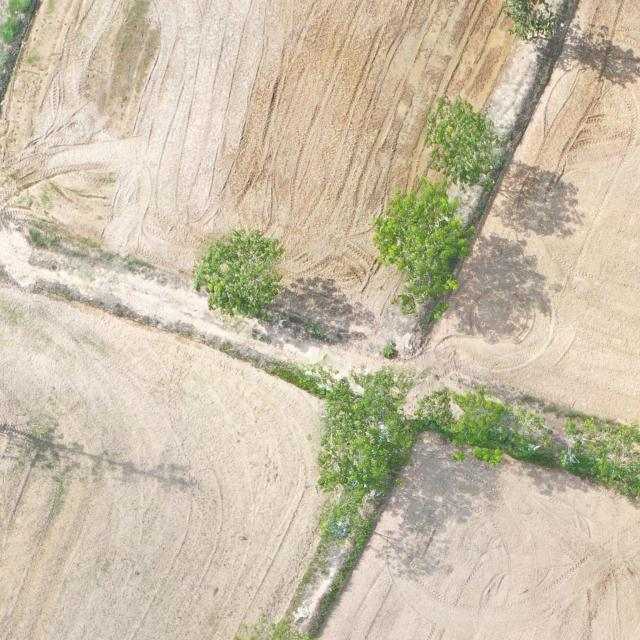Tree: (370, 175, 477, 319), (314, 364, 394, 513), (413, 383, 554, 465), (192, 226, 292, 324), (426, 94, 513, 194), (557, 414, 640, 498), (501, 0, 564, 44)
